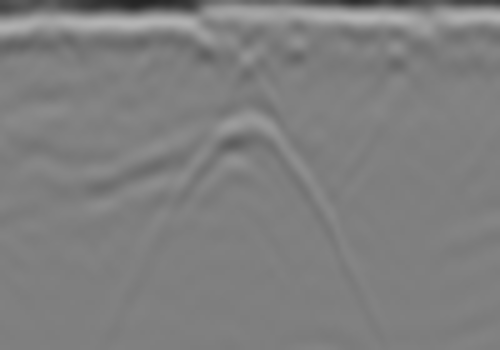hyperbola: (126, 109, 387, 338)
